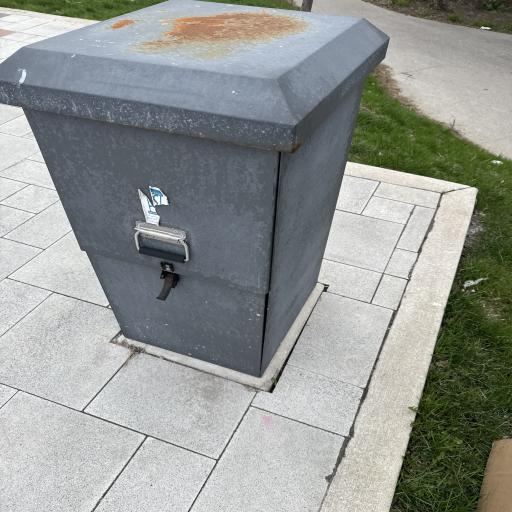Electrical Box: (0, 0, 395, 377)
